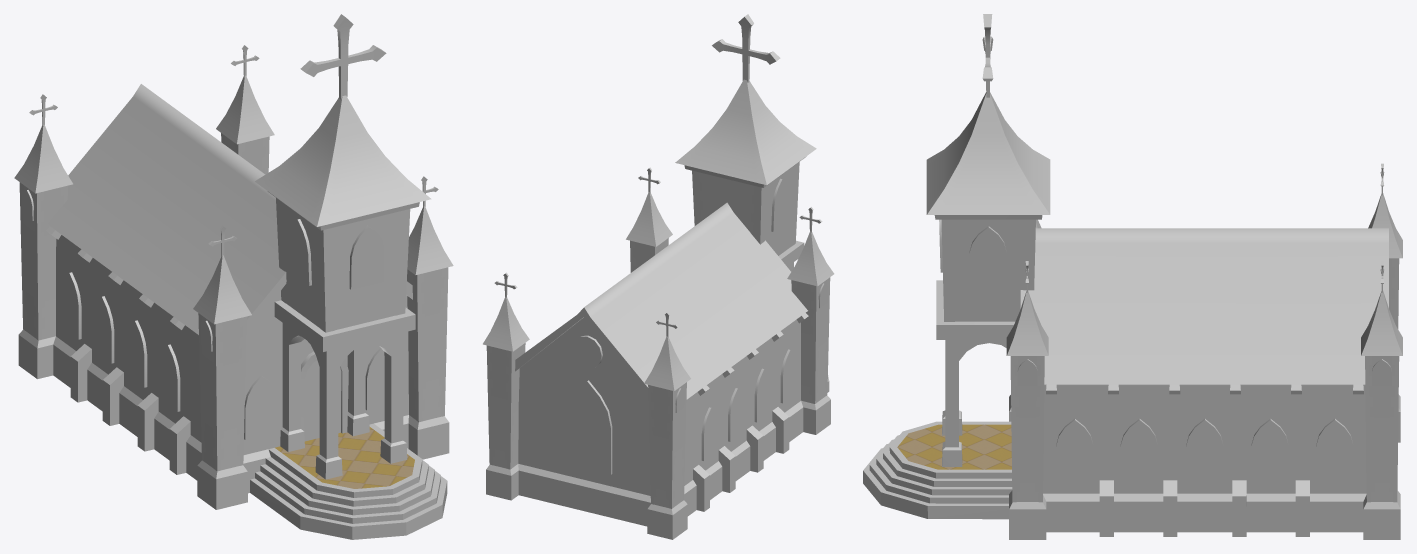
Rendered from Church03_e01.FBX.
3 views of the same model, side by side, from view 1: azimuth 30°, elevation 25°; view 2: azimuth 150°, elevation 25°; view 3: azimuth 270°, elevation 25° (orthographic). The views are drawn at different scales.
Visible parts, largest first — view 1: Church03_e01; view 2: Church03_e01; view 3: Church03_e01.
Part boxes in pixels (<box>): Church03_e01: <box>14,14,453,539</box>; Church03_e01: <box>483,14,834,539</box>; Church03_e01: <box>863,14,1402,539</box>.
Size of the model in its own units: 778 by 1470 by 1532.
